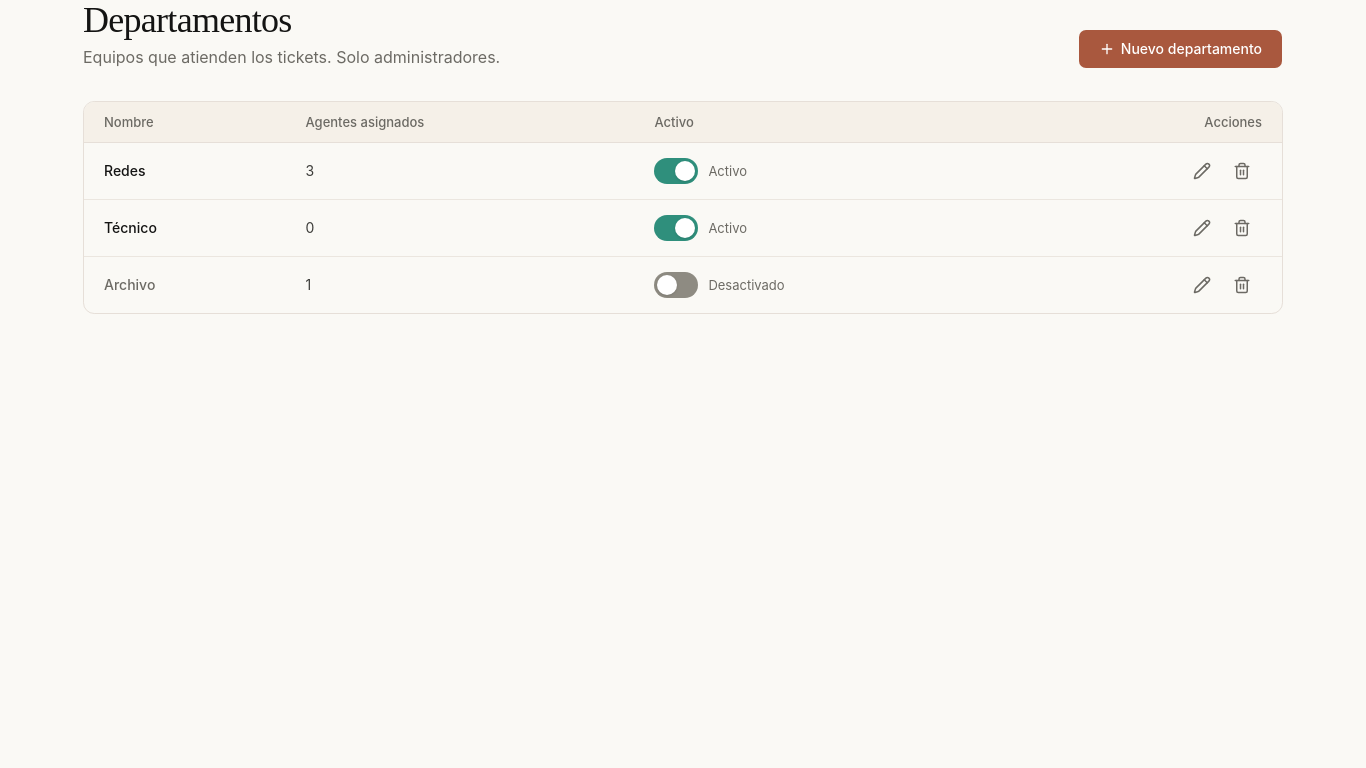
OrganizationsAdmin › alta › «Nuevo departamento» abre el panel con el campo Nombre enfocado
Click the button "Nuevo departamento" at (1180, 49), box [1078,29,1283,69]
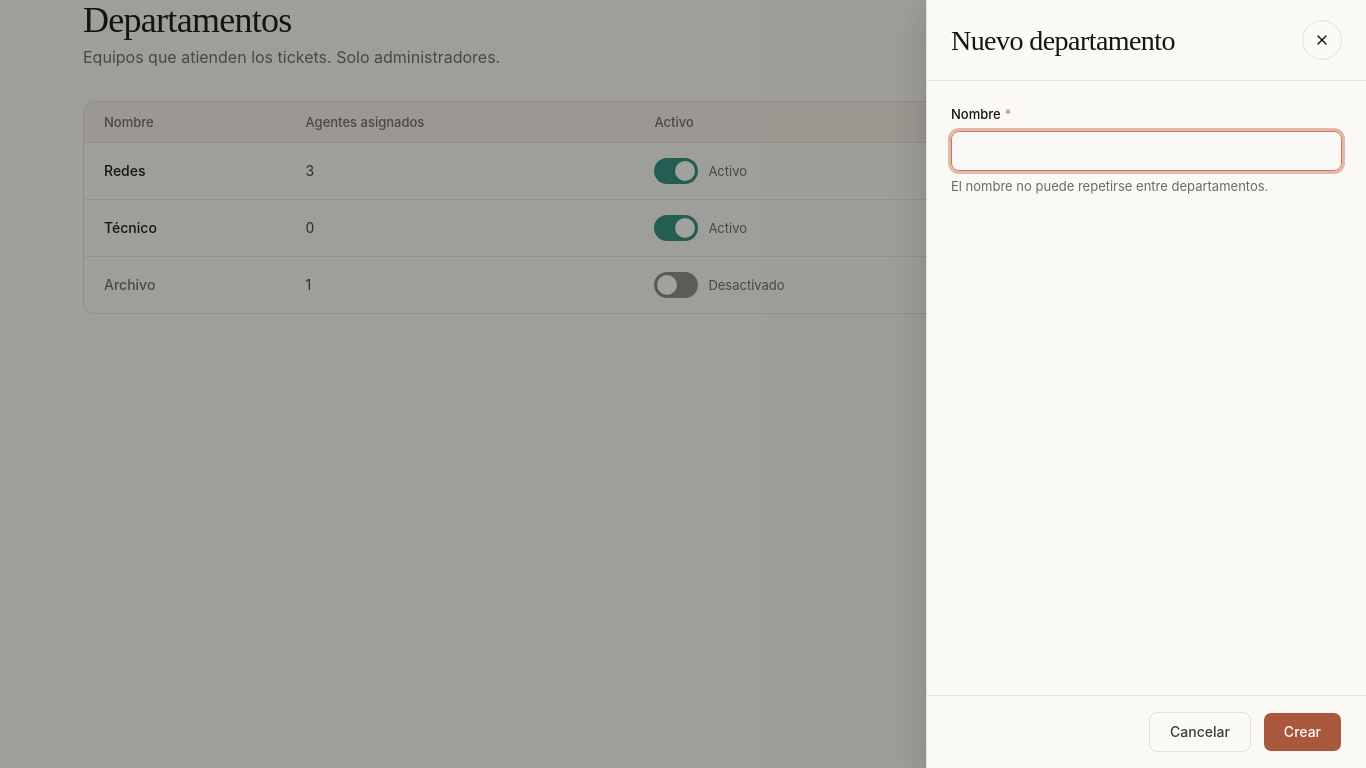
Expected: the text "El nombre no puede repetirse entre departamentos." is shown, [951,178,1268,194]
